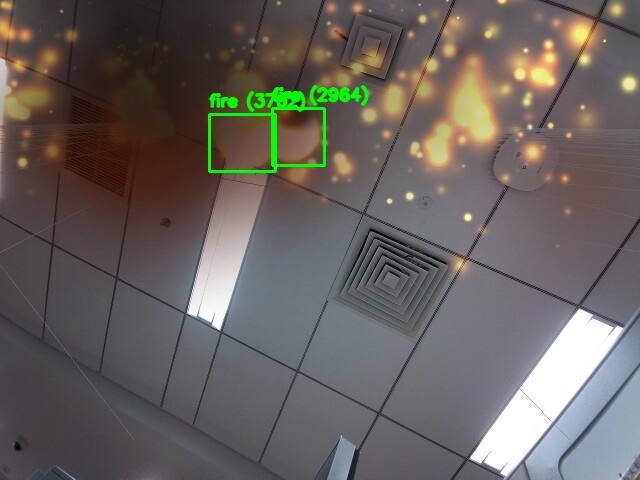fire: (209, 114, 275, 171), (272, 108, 324, 165)
